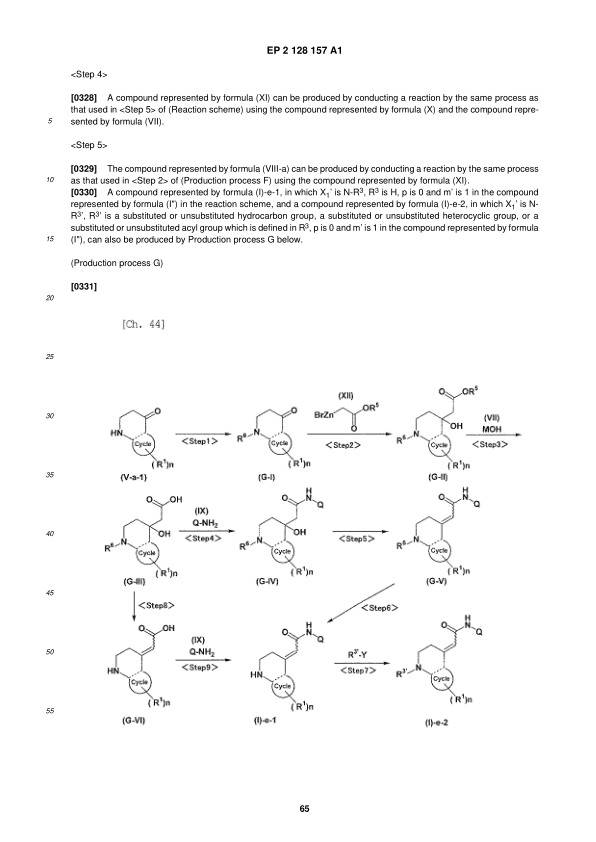compound-structure: (394, 613, 492, 730), (237, 482, 327, 590), (250, 606, 328, 727), (395, 375, 478, 481), (100, 490, 189, 588), (397, 484, 482, 586), (105, 614, 183, 712), (234, 405, 312, 486), (108, 397, 176, 489), (312, 384, 384, 432)
reaction: (92, 366, 537, 754)
reaction-arrow: (315, 381, 391, 455), (324, 582, 399, 628), (175, 632, 234, 683), (470, 405, 523, 459), (181, 502, 234, 555), (117, 591, 179, 625), (332, 517, 390, 553), (332, 643, 390, 677), (177, 422, 231, 452)
